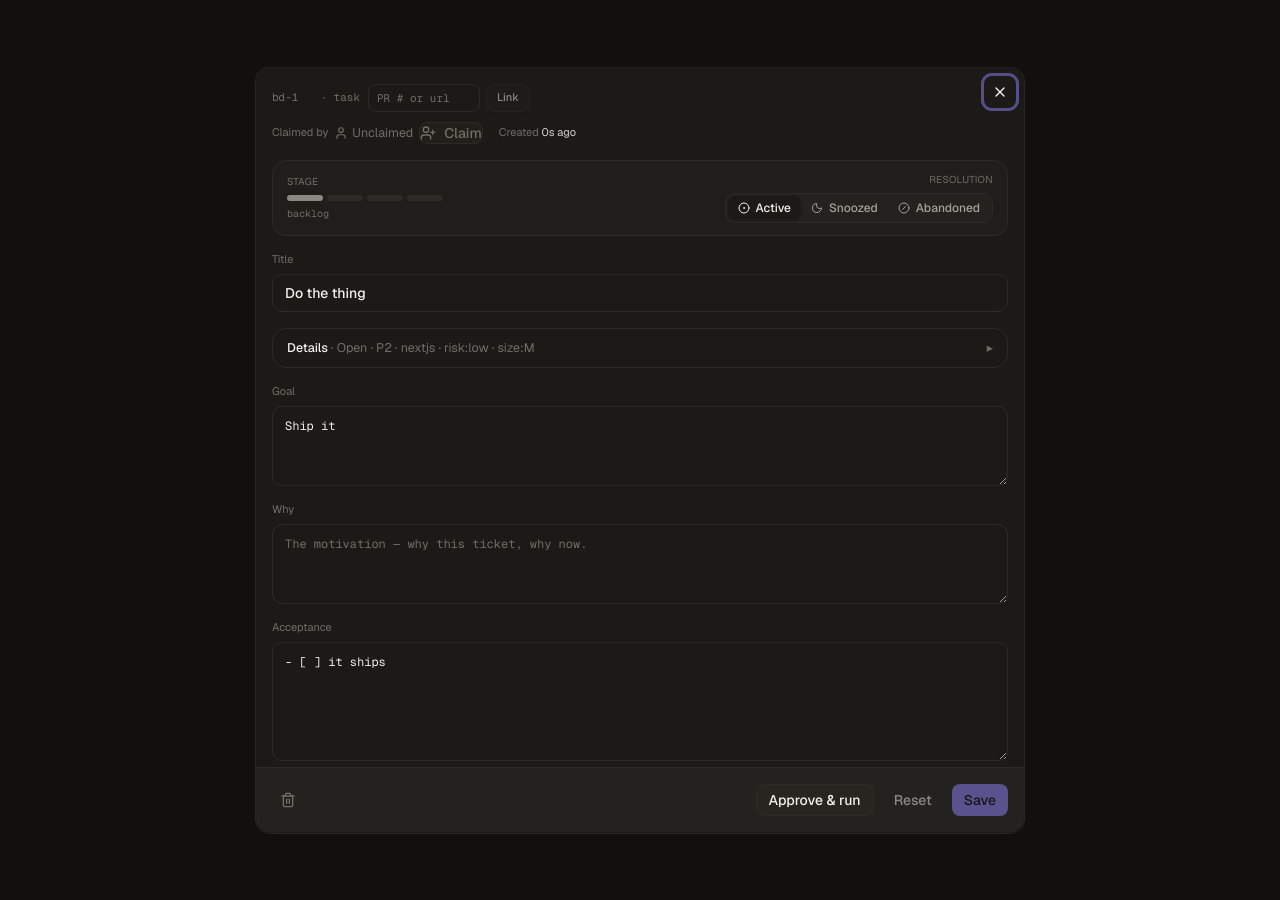
it: TicketDialog › throws unsaved edits away on Reset
The image size is (1280, 900).
Replace the text in the field labelled "Title" with "Renamed" at (640, 292), box left=272, top=274, right=1008, bottom=312
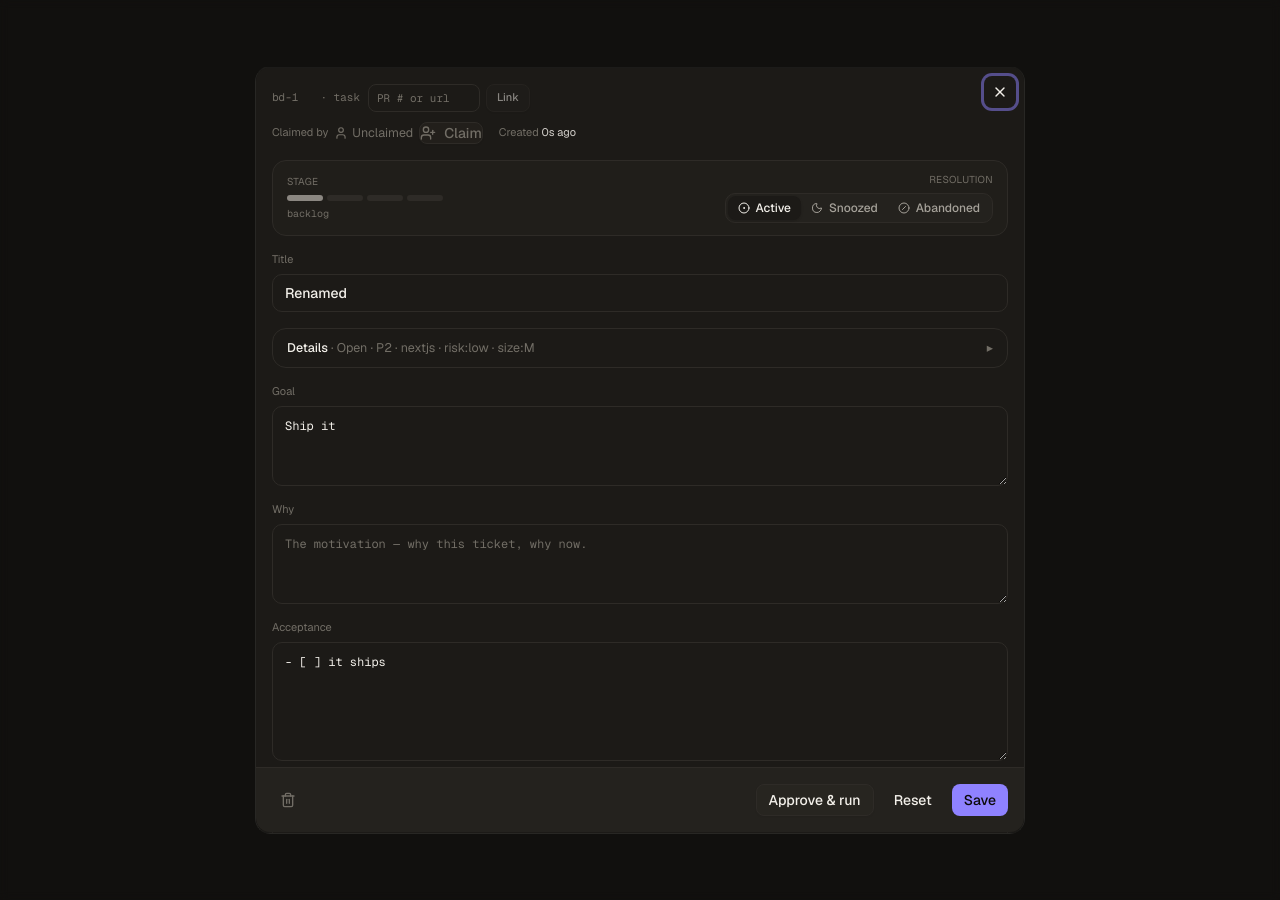
Click the button "Reset".
click(913, 800)  # box left=882, top=784, right=944, bottom=816
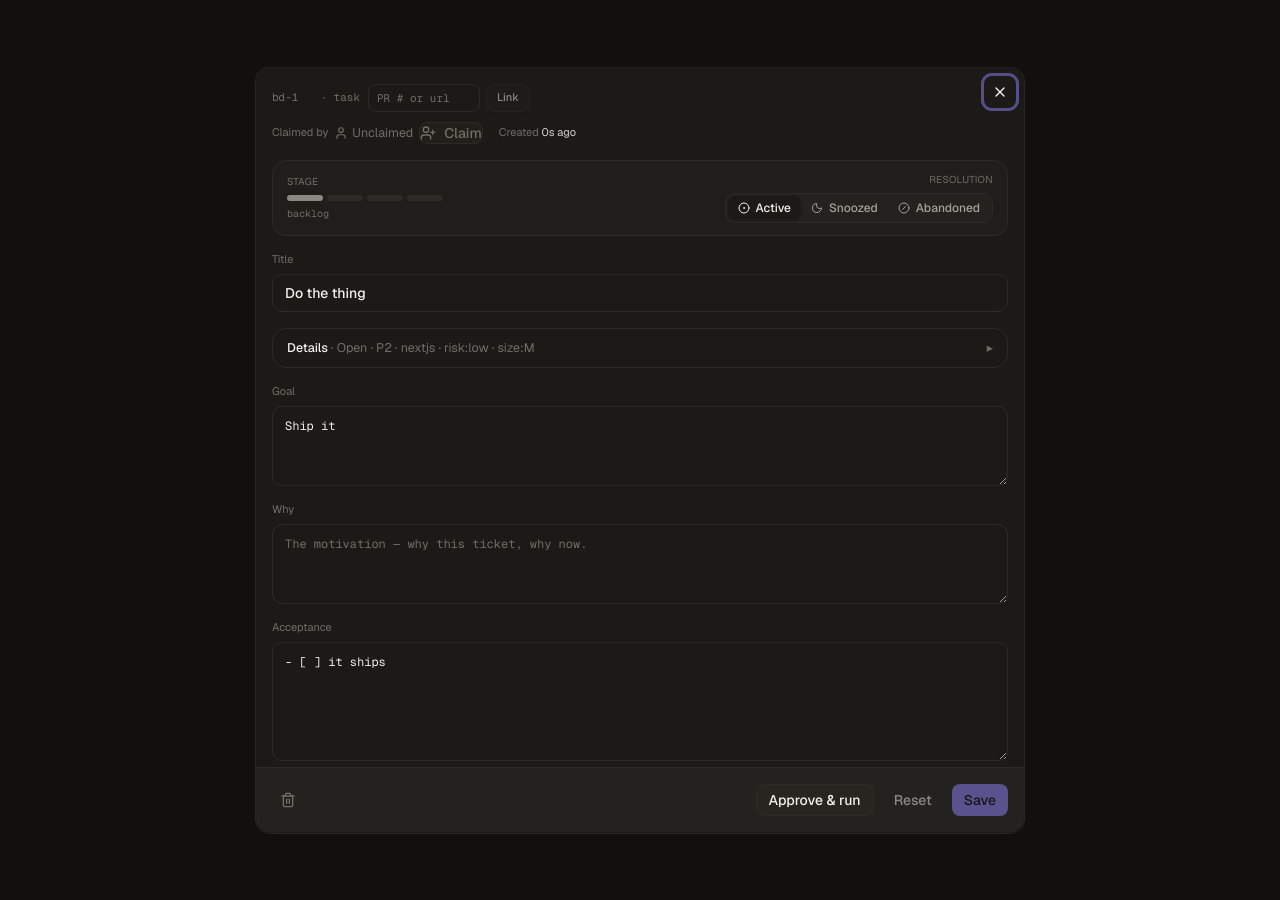
Result: the field labelled "Title" holds "Do the thing" at left=272, top=274, right=1008, bottom=312
